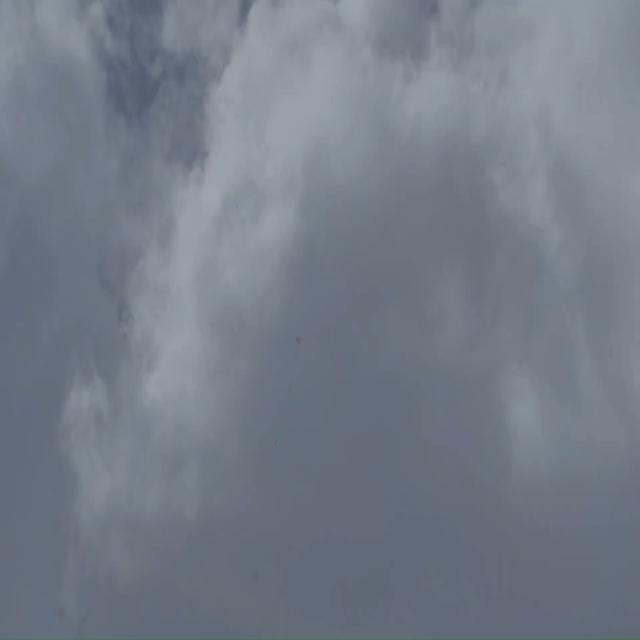Rocket: (274, 437, 278, 446)
